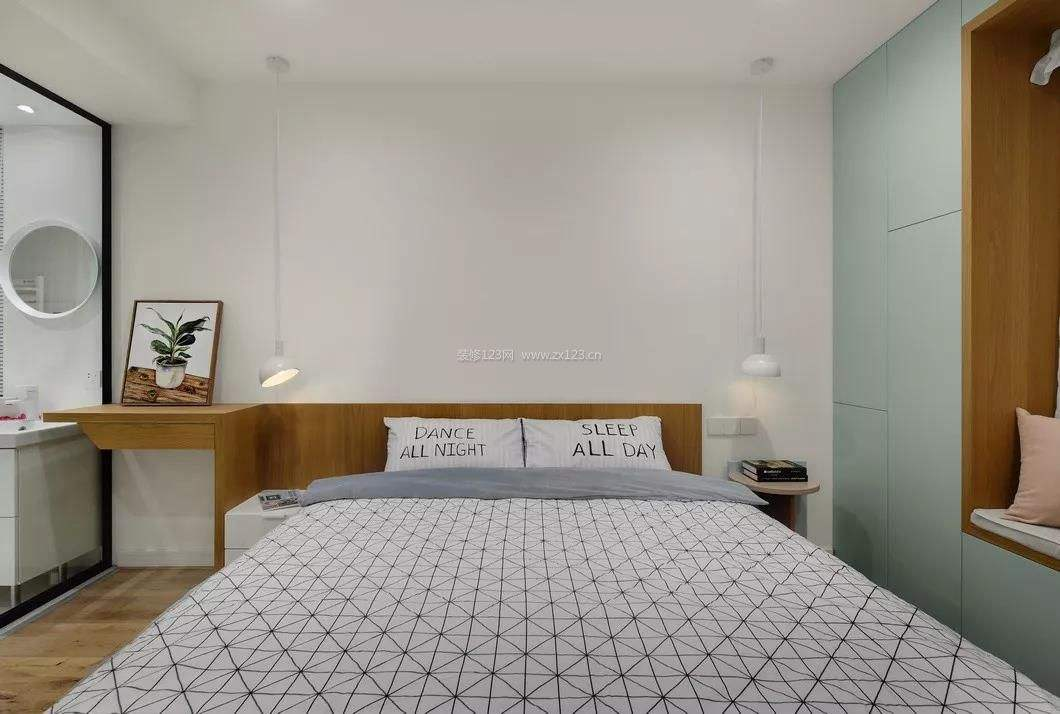床: (89, 460, 967, 714)
枕头: (382, 416, 669, 480), (1011, 398, 1060, 522)
灯: (258, 57, 301, 397), (740, 55, 784, 383)
